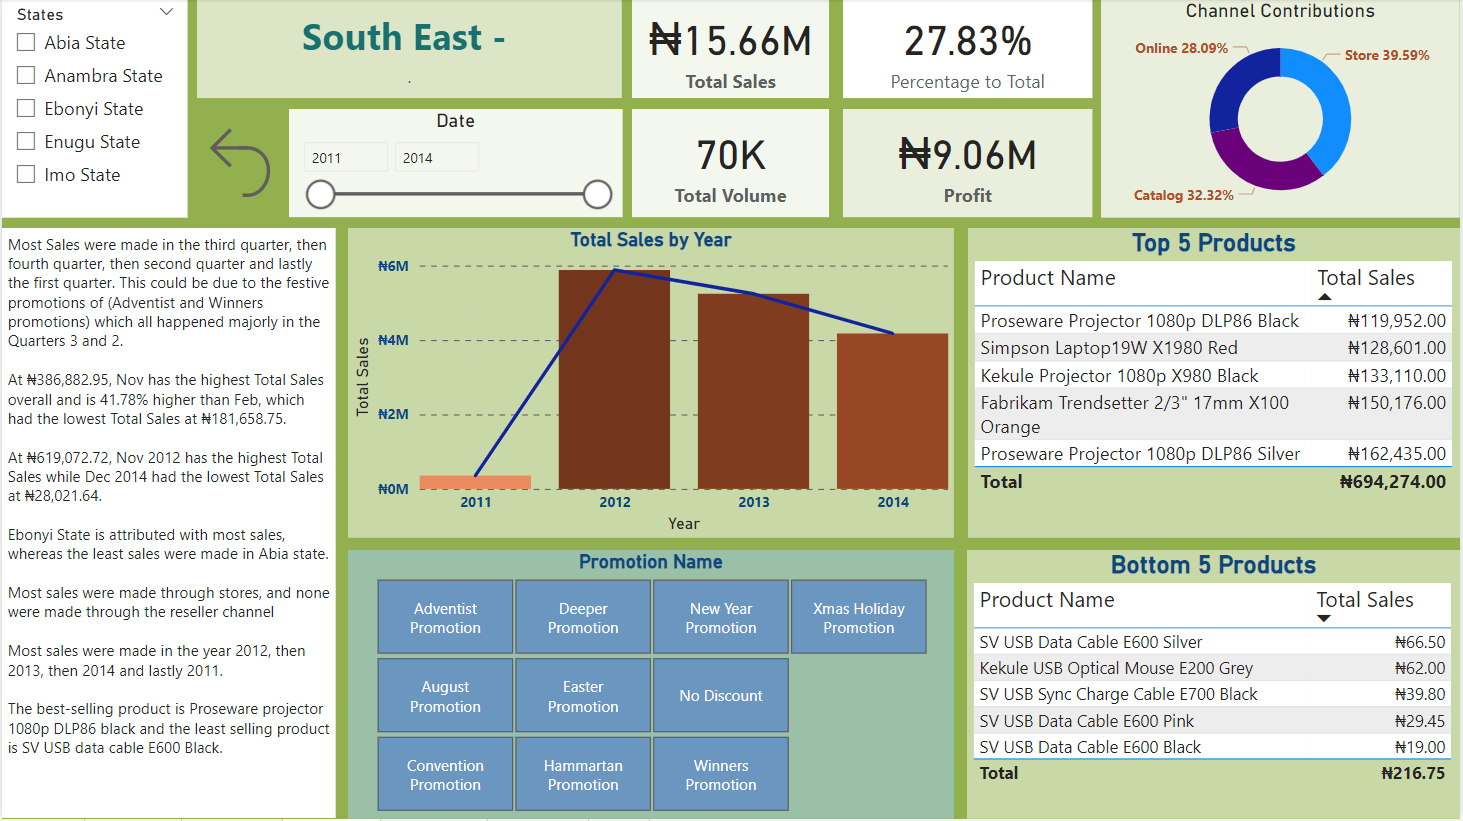

Layout of this report page (visuals, bound fields, positions):
{"tool":"powerbi","page":{"name":"South East","canvas":[1280,720],"ordinal":4},"visuals":[{"type":"card","fields":{"Values":["Measures (2).Total Sales"]},"box":[553.4,0,173.1,86.6],"z":0},{"type":"card","fields":{"Values":["Measures (2).Profit"]},"box":[738.2,96.3,218.8,95.3],"z":1000},{"type":"card","fields":{"Values":["Sum(Sales_Details.Order Qty)"]},"box":[553.4,96.3,173.1,95.3],"z":2000},{"type":"slicer","title":"Date","fields":{"Values":["DateKey.Year"]},"box":[251.9,96.3,292.8,95.3],"z":3000},{"type":"tableEx","title":"Top 5 Products","fields":{"Values":["Sales_Details.Product Name","Measures (2).Total Sales"]},"box":[848.1,201.3,431.9,272.3],"z":4000},{"type":"slicer","title":"Promotion Name","fields":{"Values":["Sales_Details.Promotion Name"]},"box":[303.5,483.4,532,236.4],"z":5000},{"type":"card","fields":{"Values":["Measures (2).Channel to Product Contribution"]},"box":[738.2,0,218.8,86.6],"z":6000},{"type":"donutChart","title":"Channel Contributions","fields":{"Y":["Measures (2).Total Sales"],"Category":["Sales_Details.Channel"]},"box":[964.9,0,315.1,191.6],"z":7000},{"type":"slicer","fields":{"Values":["Sales_Details.States"]},"box":[0,0,163.4,191.6],"z":8000},{"type":"lineStackedColumnComboChart","title":"Total Sales by Year","fields":{"Category":["DateKey.Year","DateKey.Month","DateKey.Quarters"],"Y":["Measures (2).Total Sales"],"Y2":["Measures (2).Total Sales"]},"box":[303.5,201.3,532,272.3],"z":9000},{"type":"tableEx","title":"Bottom 5 Products","fields":{"Values":["Sales_Details.Product Name","Measures (2).Total Sales"]},"box":[847.2,483.4,432.8,236.4],"z":10000},{"type":"textbox","box":[0,201.3,292.8,518.4],"z":11000},{"type":"actionButton","box":[171.4,95.9,75.6,95.9],"z":12000},{"type":"card","fields":{"Values":["Sales_Details.Title"]},"box":[171.2,0,373.5,86.6],"z":13000}]}

Visuals, with their boxes in screenshot pixels (x1, y1, x2, y2), scaled from the page's 1280x720 canvas onto the 1463x821 screenshot:
card - Measures (2).Total Sales: [x1=633, y1=0, x2=830, y2=99]
card - Measures (2).Profit: [x1=844, y1=110, x2=1094, y2=218]
card - Sum(Sales_Details.Order Qty): [x1=633, y1=110, x2=830, y2=218]
"Date" slicer: [x1=288, y1=110, x2=623, y2=218]
"Top 5 Products" tableEx: [x1=969, y1=230, x2=1462, y2=540]
"Promotion Name" slicer: [x1=347, y1=551, x2=955, y2=820]
card - Measures (2).Channel to Product Contribution: [x1=844, y1=0, x2=1094, y2=99]
"Channel Contributions" donutChart: [x1=1103, y1=0, x2=1462, y2=218]
slicer - Sales_Details.States: [x1=0, y1=0, x2=187, y2=218]
"Total Sales by Year" lineStackedColumnComboChart: [x1=347, y1=230, x2=955, y2=540]
"Bottom 5 Products" tableEx: [x1=968, y1=551, x2=1462, y2=820]
textbox: [x1=0, y1=230, x2=335, y2=820]
actionButton: [x1=196, y1=109, x2=282, y2=219]
card - Sales_Details.Title: [x1=196, y1=0, x2=623, y2=99]
